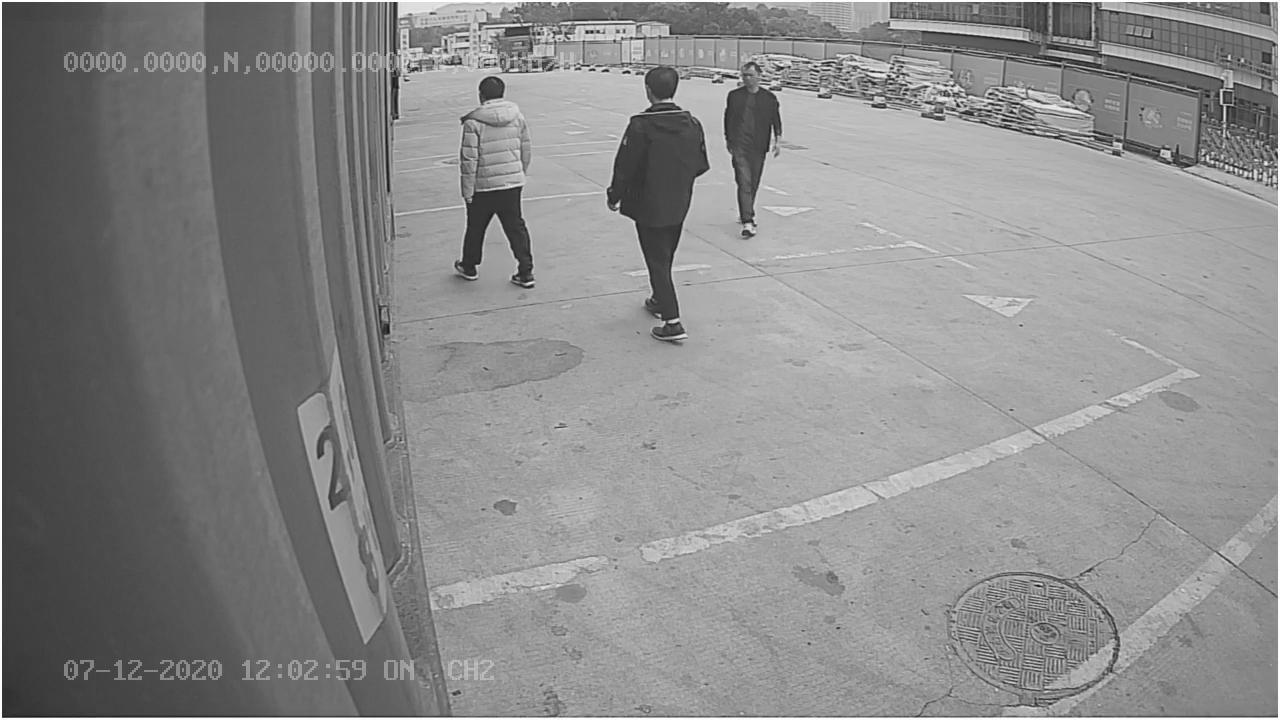person: (604, 62, 710, 341), (449, 73, 542, 291)
